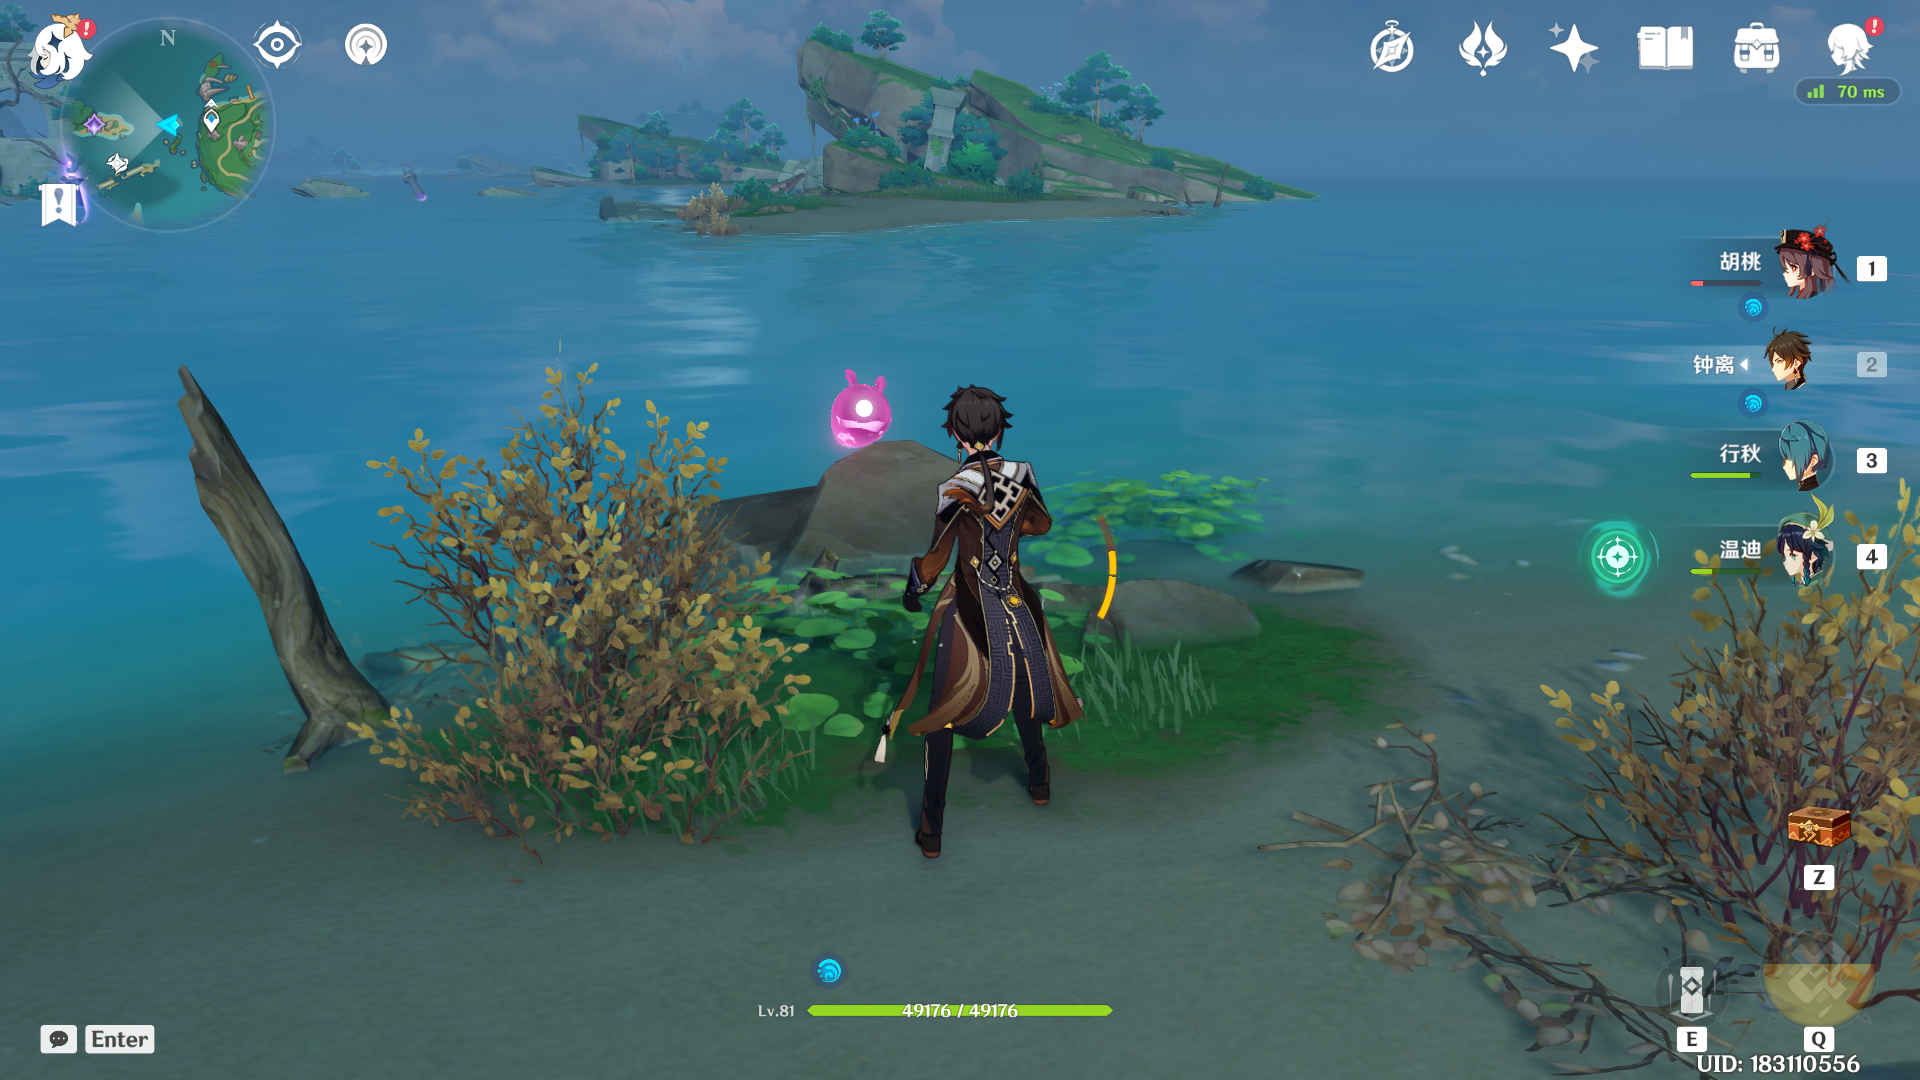character: (829, 377, 1125, 876)
